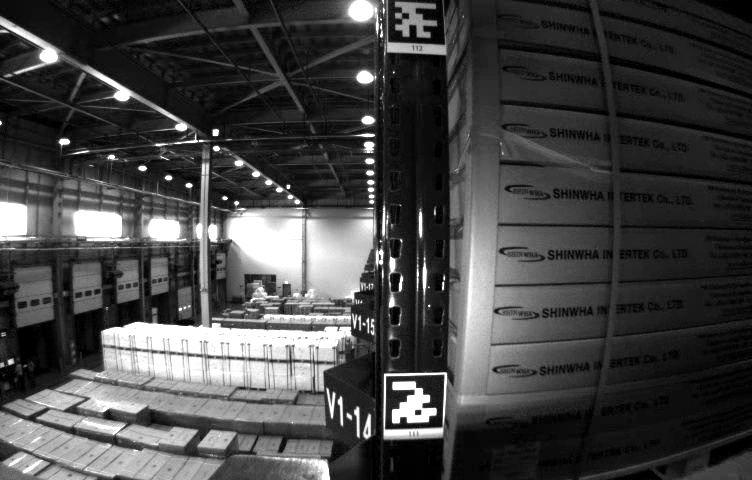True Barcode: (491, 443, 540, 480)
